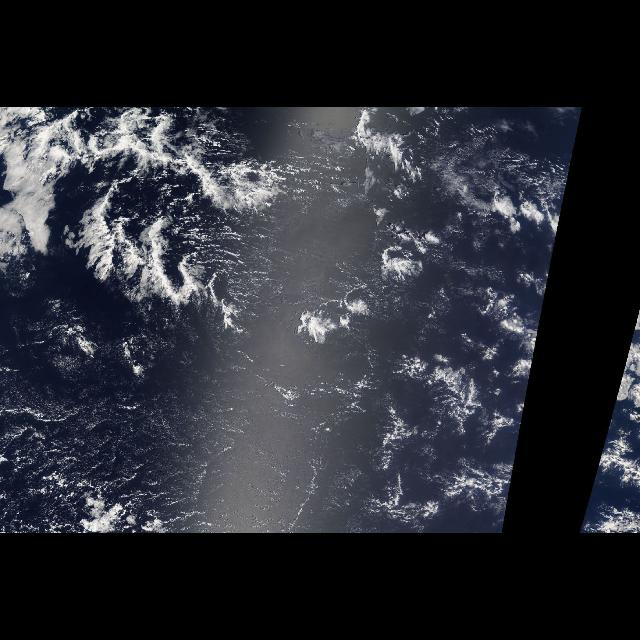Fish: (38, 110, 308, 348)
Sugar: (12, 306, 364, 532)
